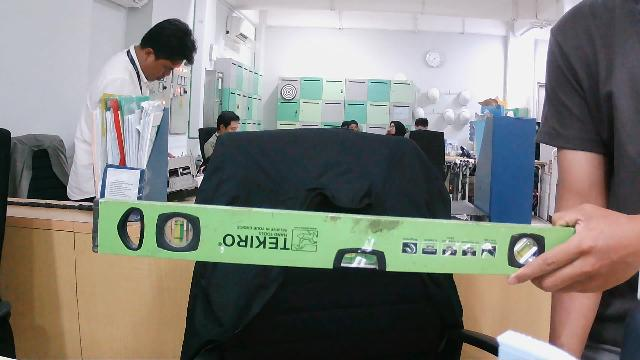water_pass: (91, 191, 628, 296)
